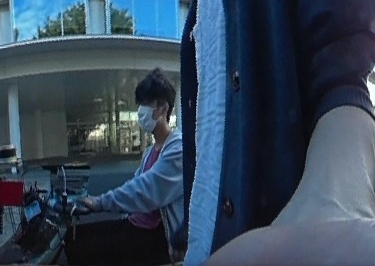person: (118, 69, 183, 266)
